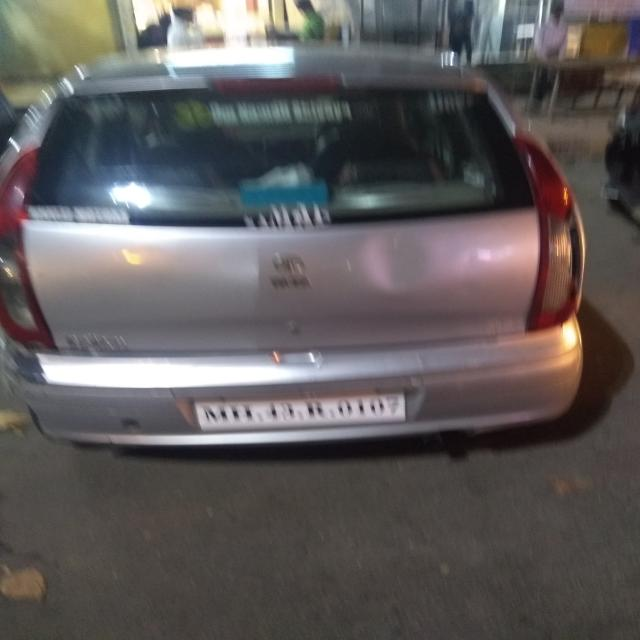Number-Plate: (198, 394, 406, 430)
